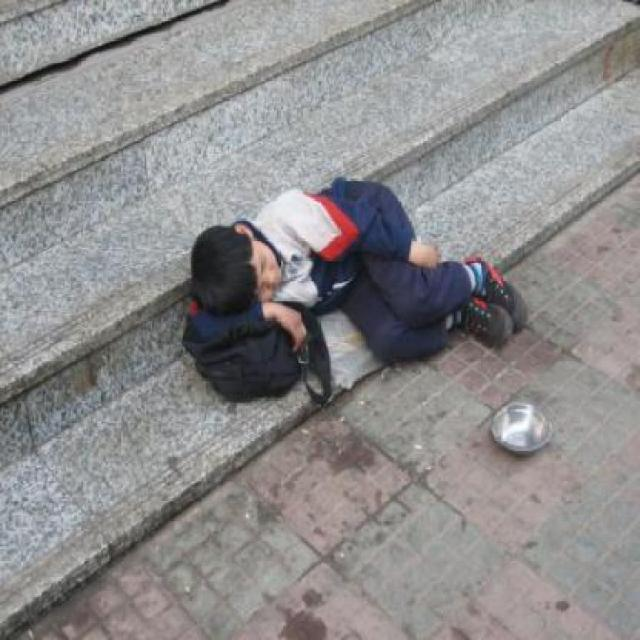fall: (171, 146, 531, 412)
